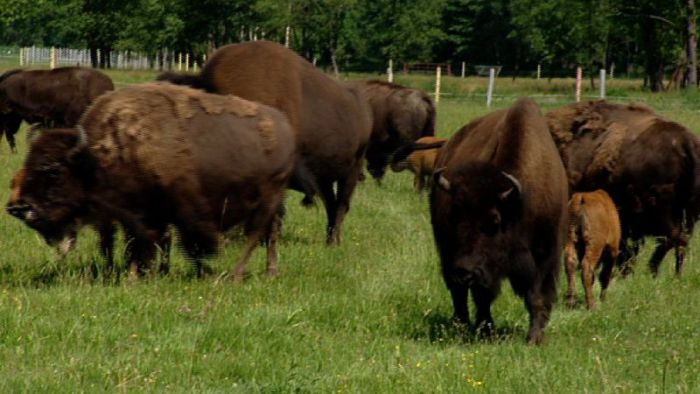zubr: (14, 81, 313, 297), (400, 83, 601, 353), (168, 30, 388, 230), (566, 73, 700, 279), (8, 59, 118, 136)
